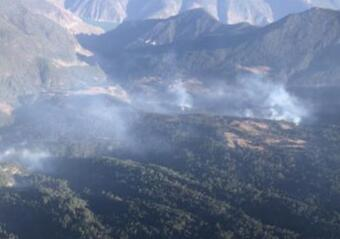yanwu: (1, 63, 306, 176)
